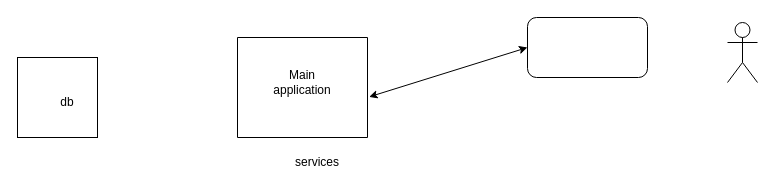
Some shapes in this 775 by 195 pixel diagram are drawn without their labels. The shapes that lost their labels are listed below. From the top down, each one's box as (x1, y1, x2, y2) in pixels, then its label:
(526, 16, 648, 78): login
(726, 22, 758, 82): Actor
